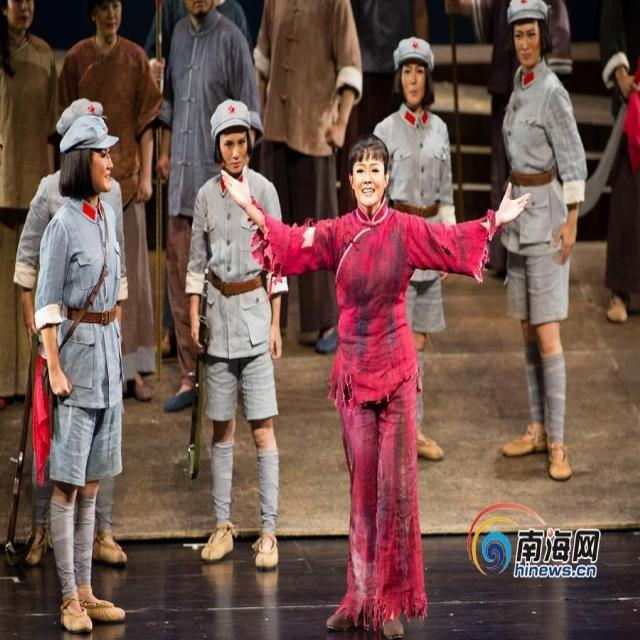person: (221, 134, 528, 635), (34, 115, 128, 634)
